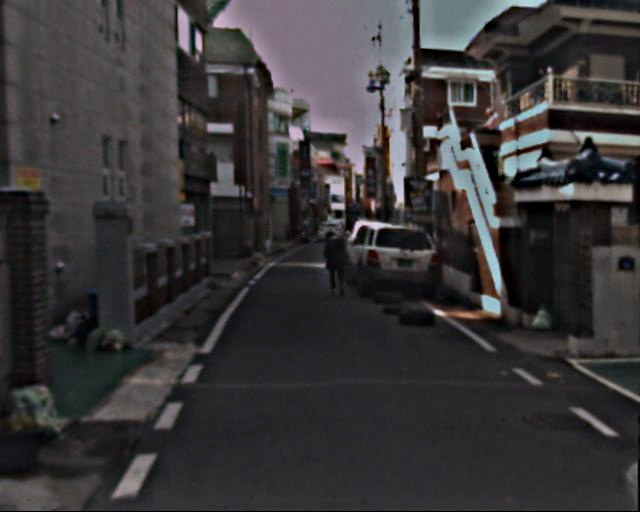person: (322, 227, 352, 301)
